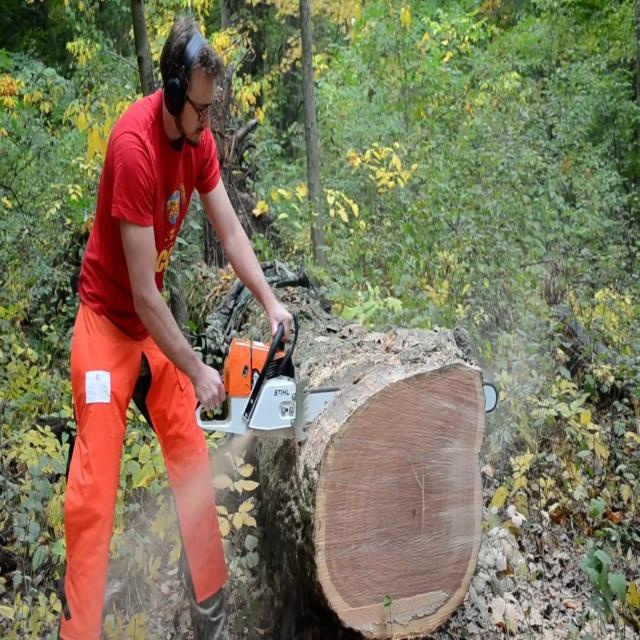Chainsaw: (188, 310, 510, 450)
